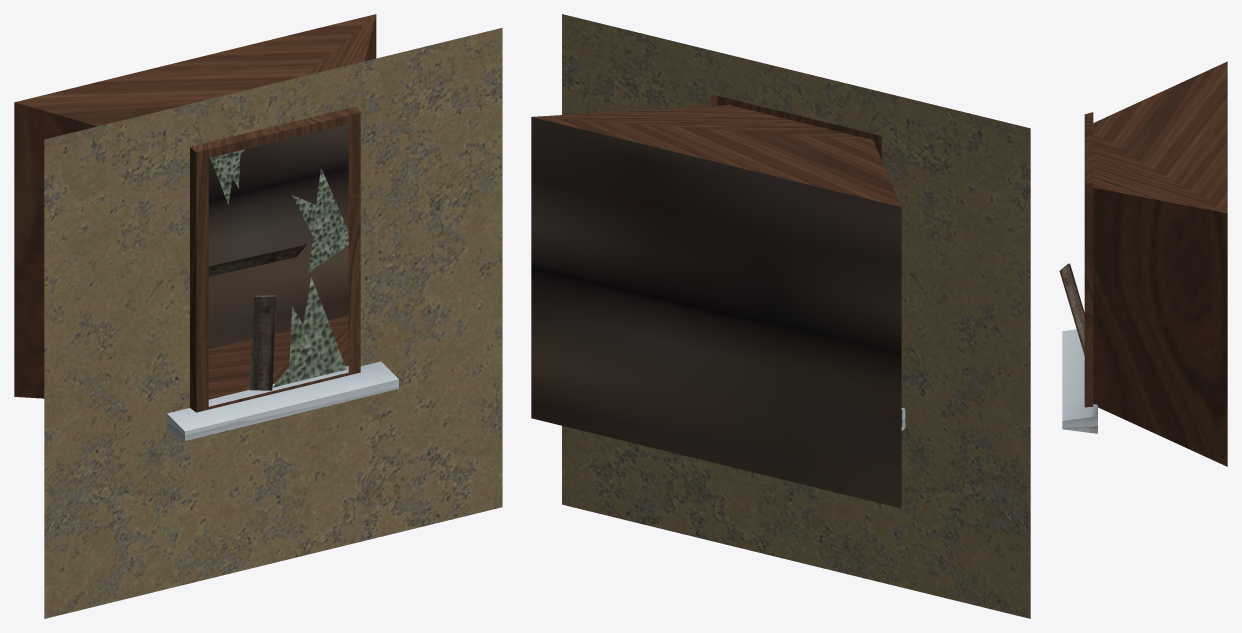
Rendered from window2.obj.
3 renders of one model, left to right at view 1: azimuth 30°, elevation 25°; view 2: azimuth 150°, elevation 25°; view 3: azimuth 270°, elevation 25°, orthographic. The views are drawn at different scales.
Visible parts, largest first — view 1: polySurface42; view 2: polySurface42; view 3: polySurface42.
Boxes of the visible parts, <box> form: polySurface42: <box>14,14,502,618</box>; polySurface42: <box>531,14,1030,618</box>; polySurface42: <box>1059,61,1227,466</box>.
Size of the model in its own units: 1 by 1 by 0.3692.
Materials: 1 (1 with a texture image).
